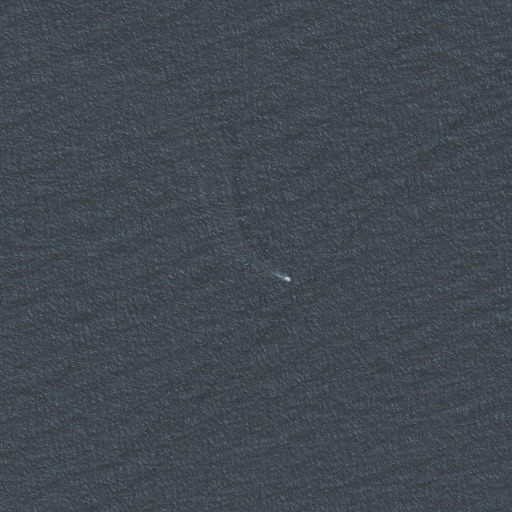ship: (283, 273, 292, 285)
